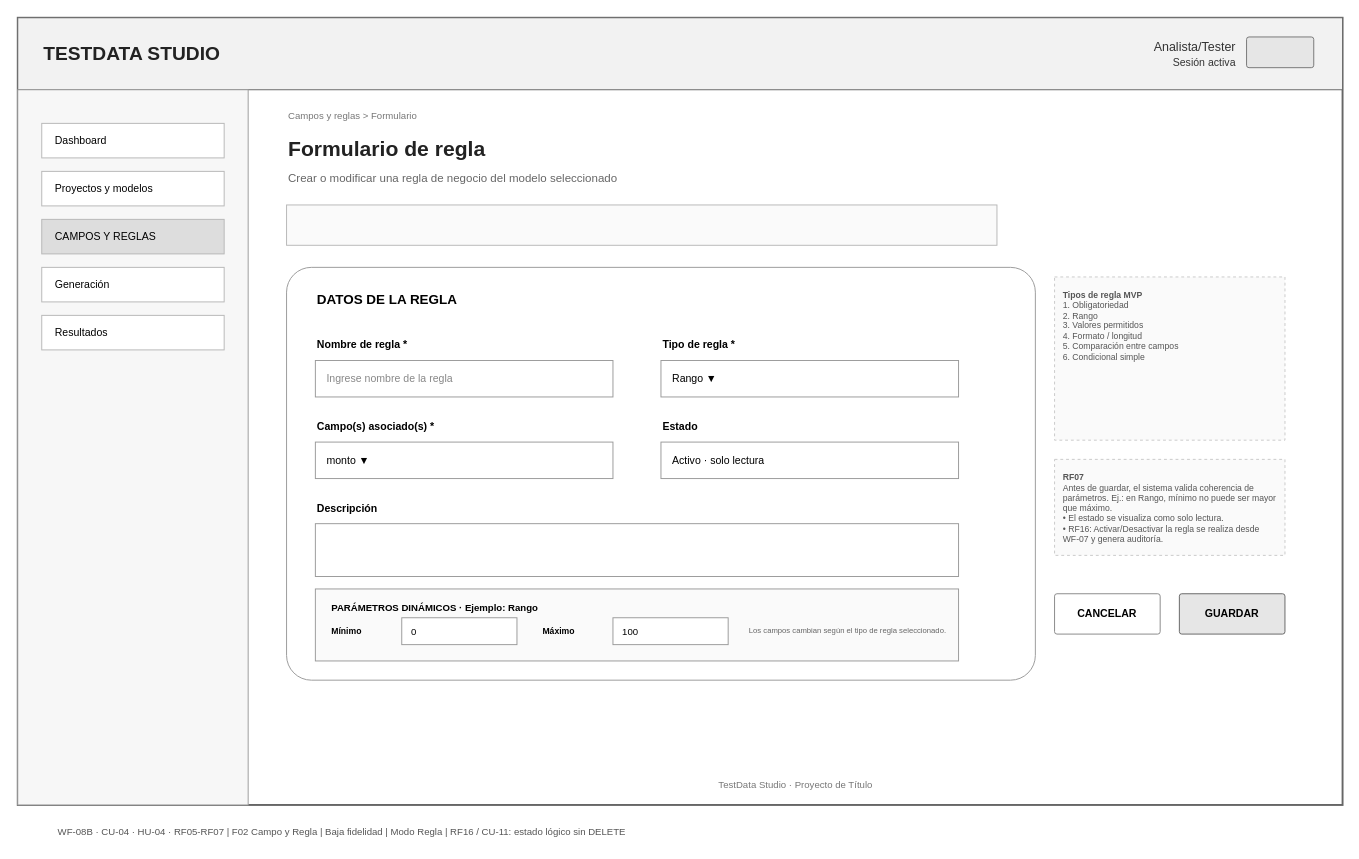
Image size: 1359x859. Some labels were removed from this diagram. The shapes that lost their labels are listed below. From the top down, each one's box as (x1, y1, x2, y2) in pixels, then its label:
(1246, 36, 1314, 68): SALIR
(286, 204, 997, 245): Proyecto: Proyecto Clientes | Modelo: Cliente
(314, 523, 959, 576): Ingrese descripción de la regla
